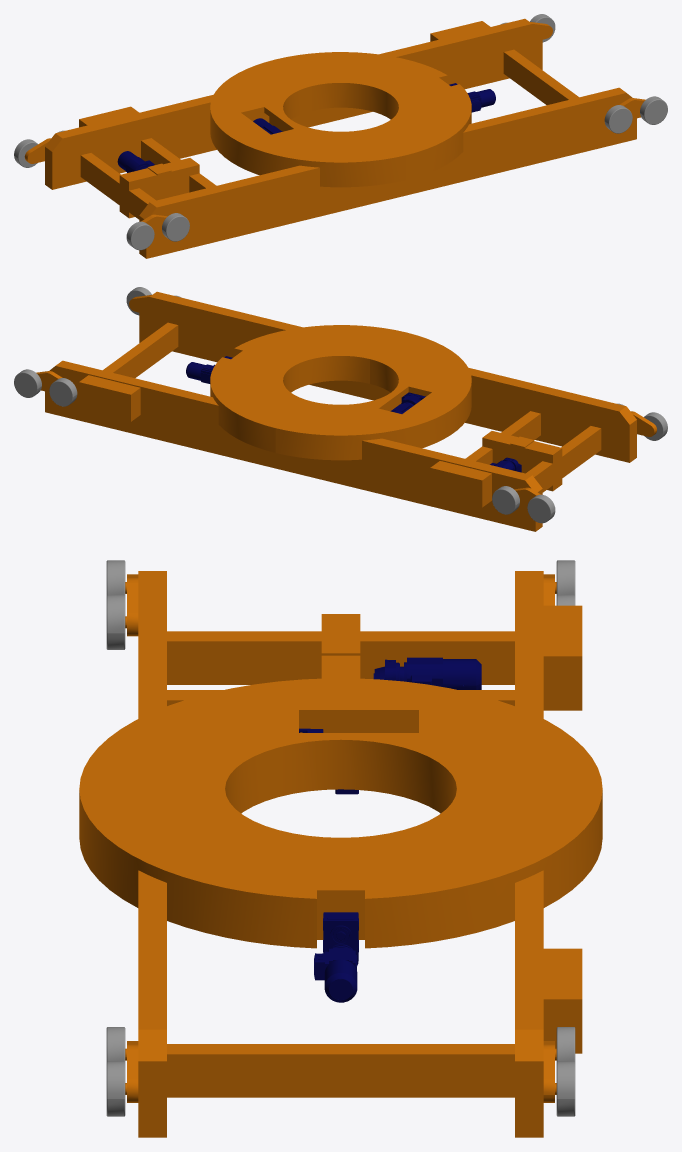
The model's file is LST-SHUTTLE.obj.
3 views of the same model, one above another, from view 1: azimuth 30°, elevation 25°; view 2: azimuth 150°, elevation 25°; view 3: azimuth 270°, elevation 25° (orthographic). The views are drawn at different scales.
Visible parts, largest first — view 1: P073064; view 2: P073064; view 3: P073064.
Part boxes in pixels (bbox=[...]): P073064: bbox=[14, 14, 667, 258]; P073064: bbox=[14, 287, 667, 531]; P073064: bbox=[79, 560, 602, 1137].
Size of the model in its own units: 5170 by 504 by 2180.
